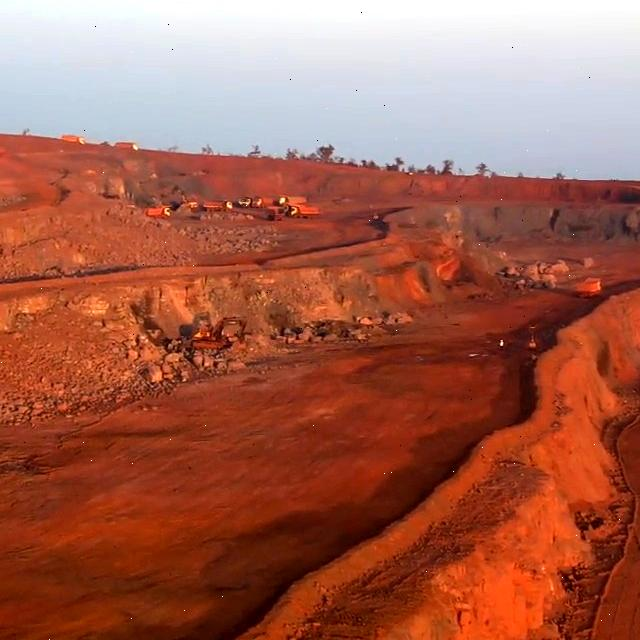Excavator: (191, 312, 251, 352)
